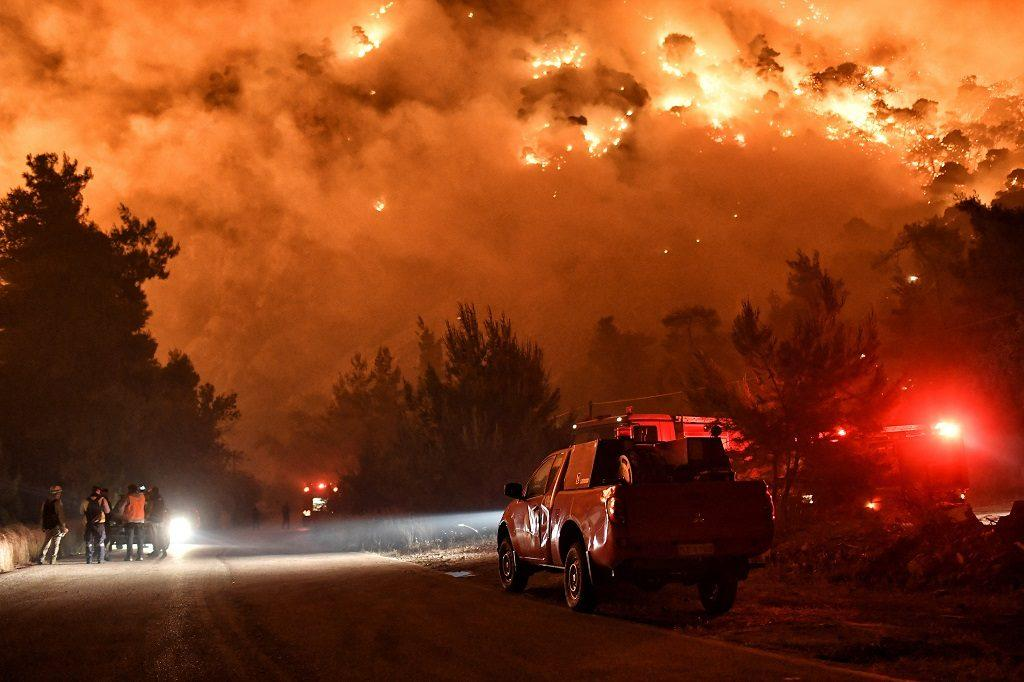fire: (475, 33, 997, 338)
